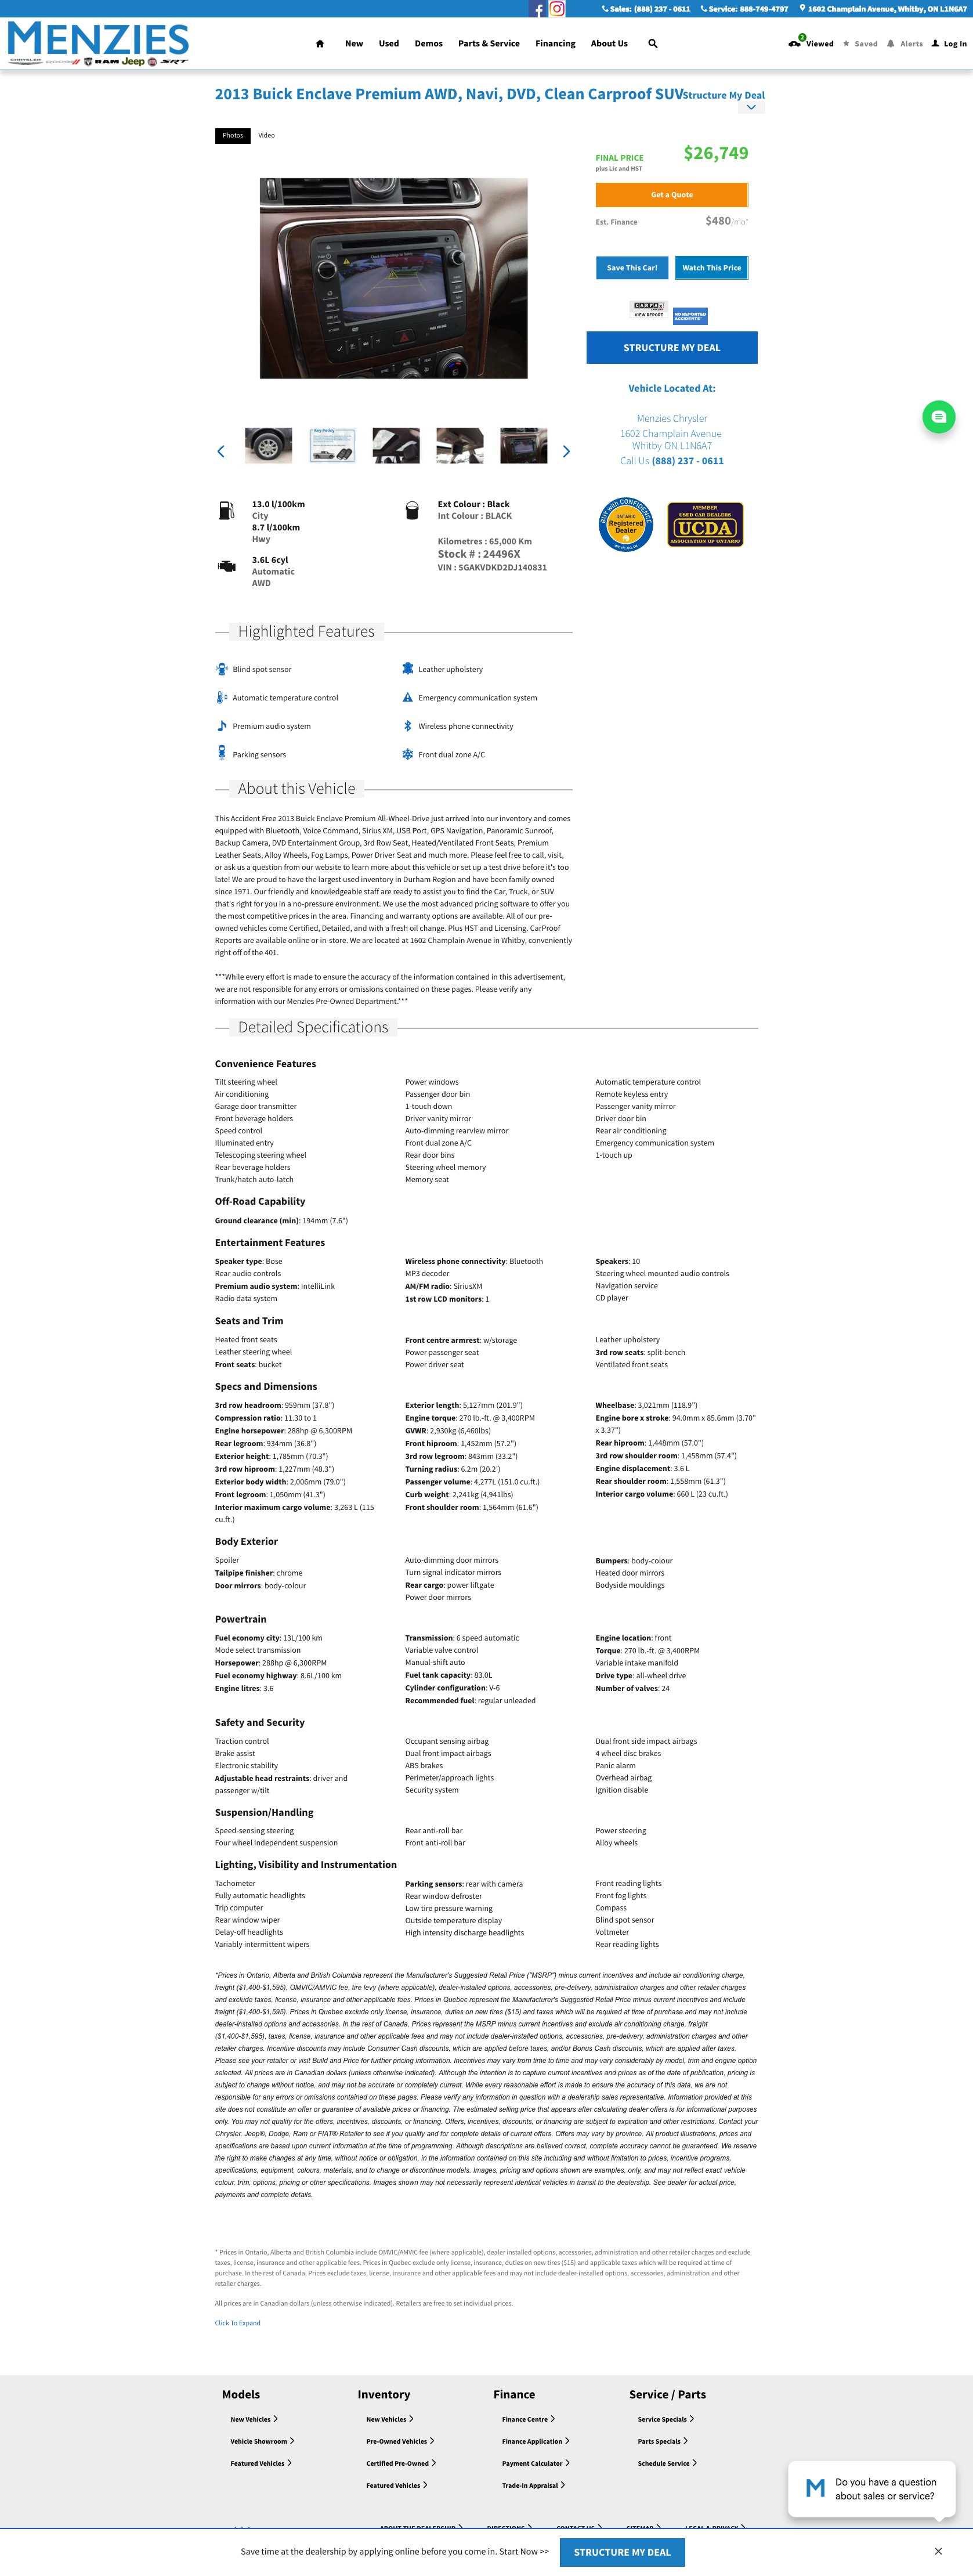car: (562, 445, 570, 458)
